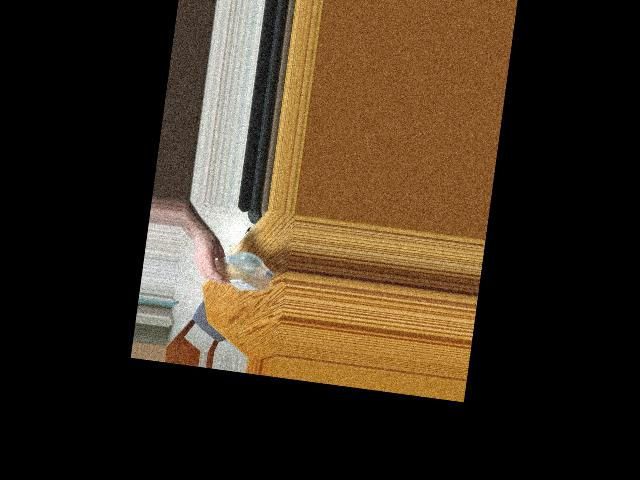cheese: (200, 249, 276, 295)
